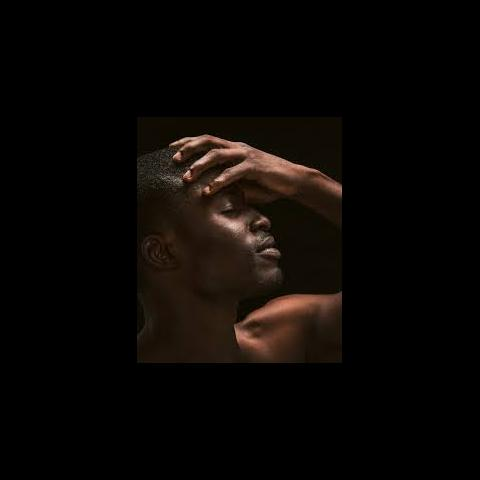closed: (205, 183, 258, 222)
